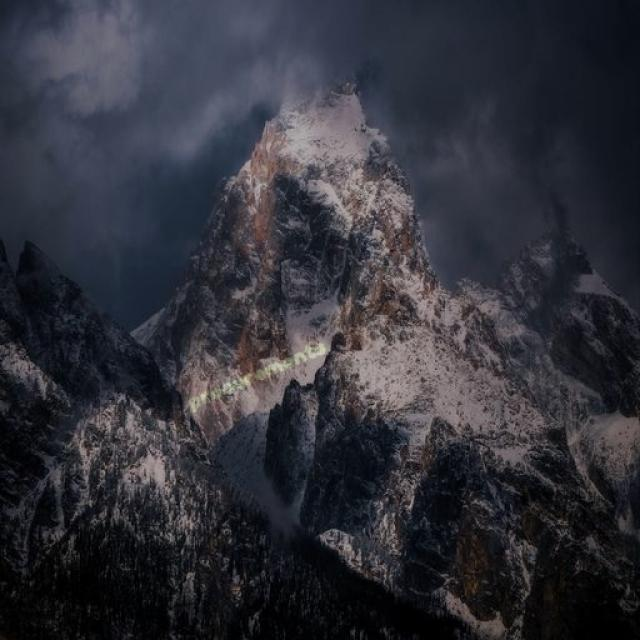watermark: (186, 336, 328, 412)
